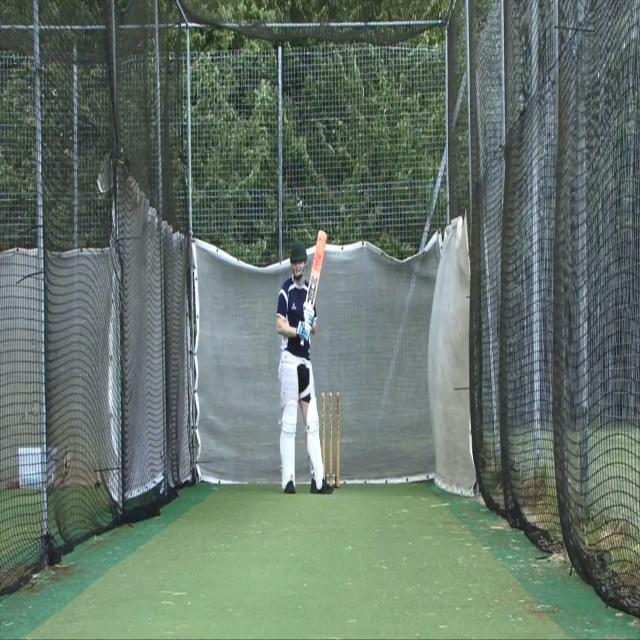batsman: (275, 228, 335, 496)
